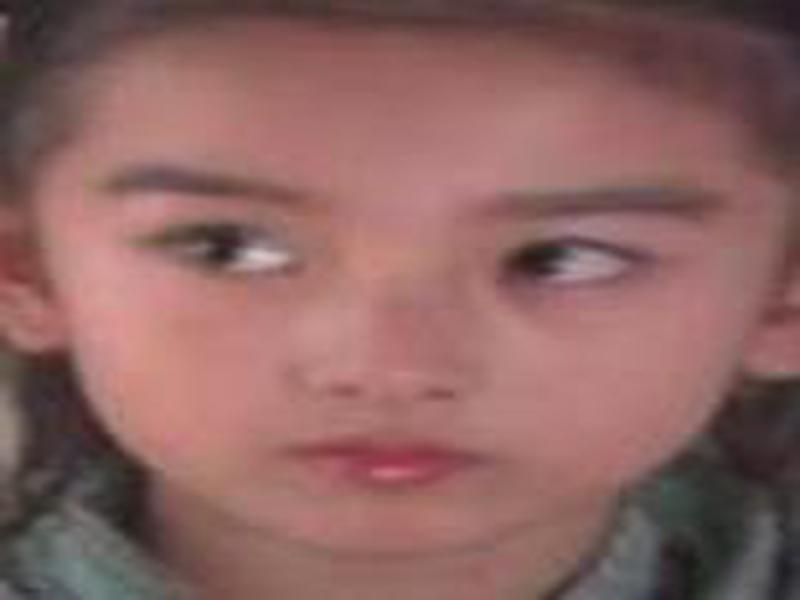without_mask: (42, 34, 749, 551)
